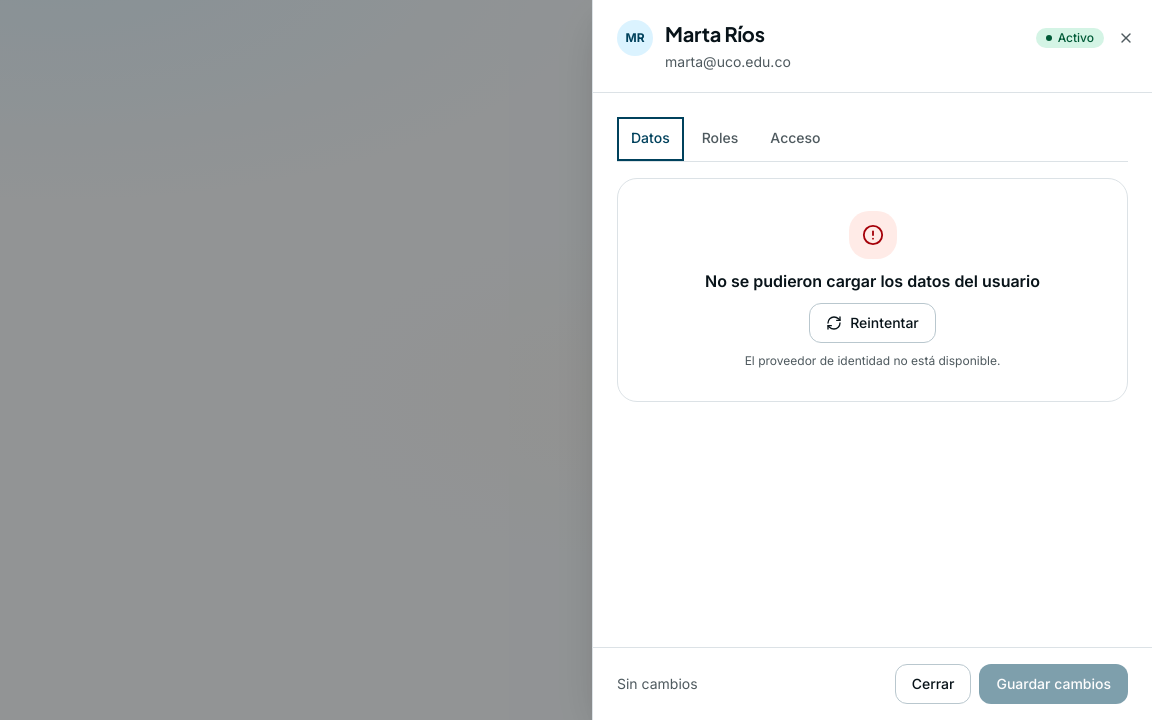
Test: EditarUsuarioPanel › si la identidad falla muestra el error sin campos de nombre, deja operativas Roles y Acceso y "Reintentar" relanza la consulta
Check: the message shows "El proveedor de identidad no está disponible.", box 745,353 -> 1000,368
Check: the field labelled "Nombres" is not shown
Click the tab "Roles" at (720, 139), box 688,117 -> 752,161
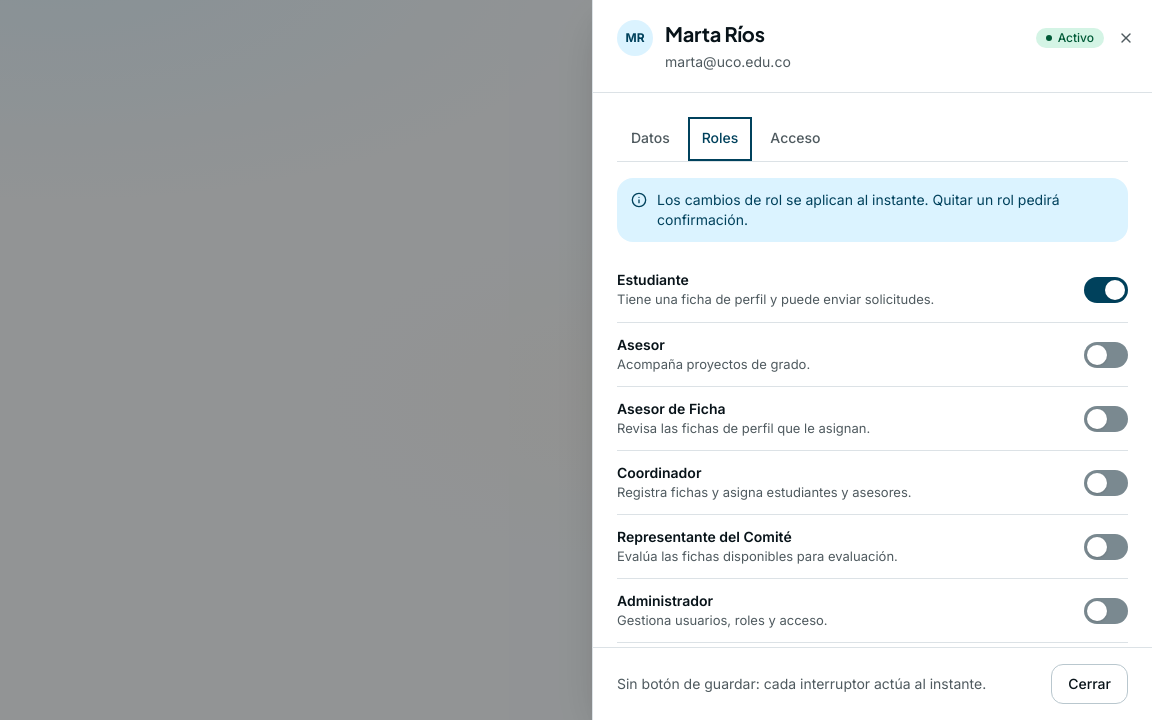
Check: the 1st switch named "Estudiante" is checked, box 1084,277 -> 1128,303
Click the tab "Datos" at (650, 139), box 617,117 -> 684,161
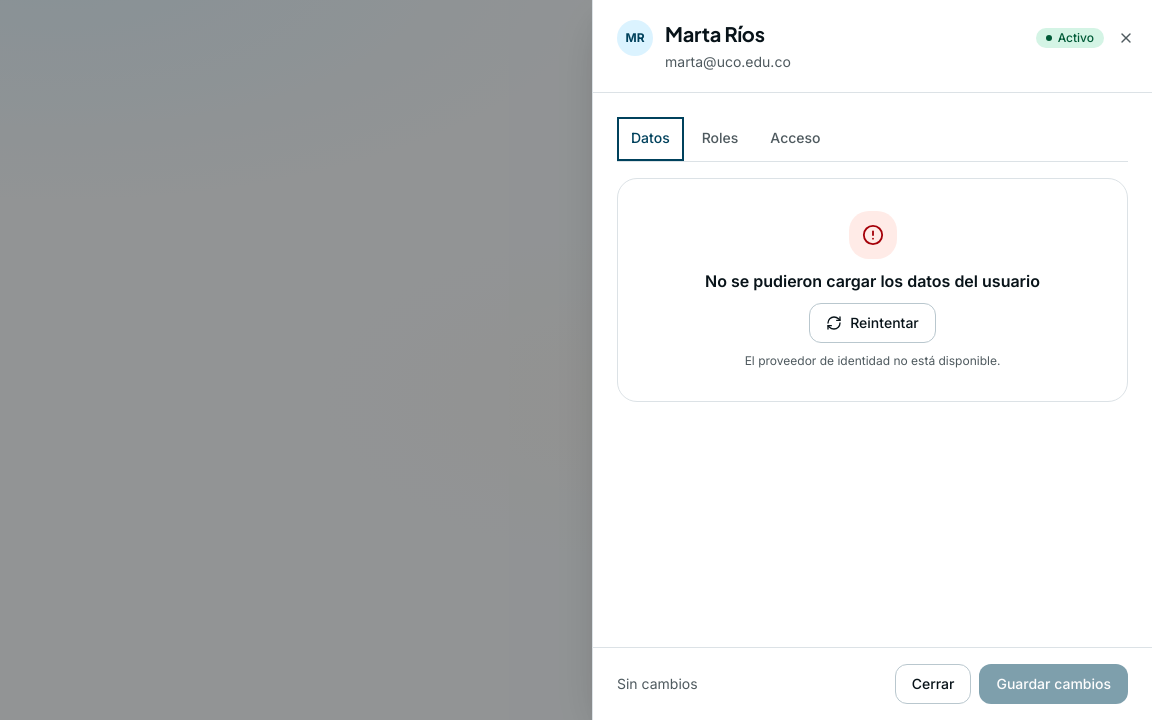
Click the button "Reintentar" at (872, 323), box 809,303 -> 936,343
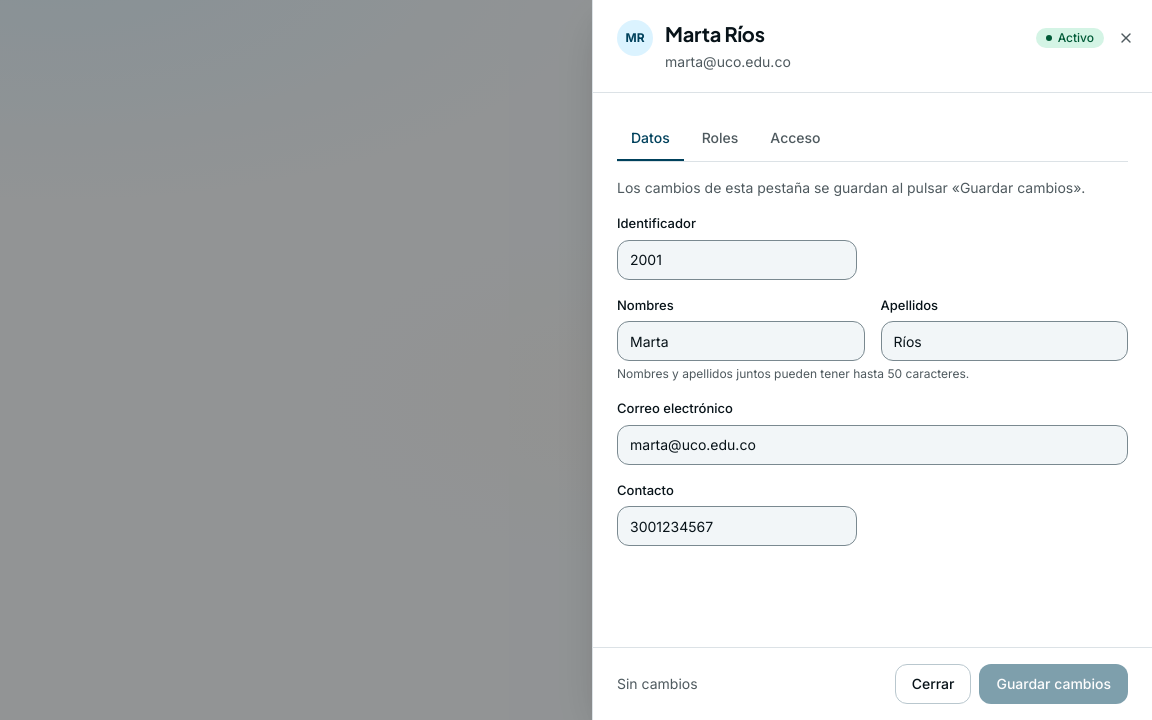
Check: the field labelled "Nombres" holds "Marta", box 617,321 -> 864,361
